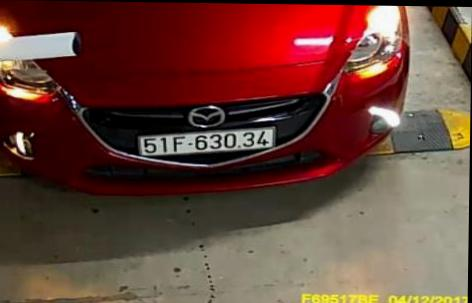License_Plate: (131, 123, 279, 162)
